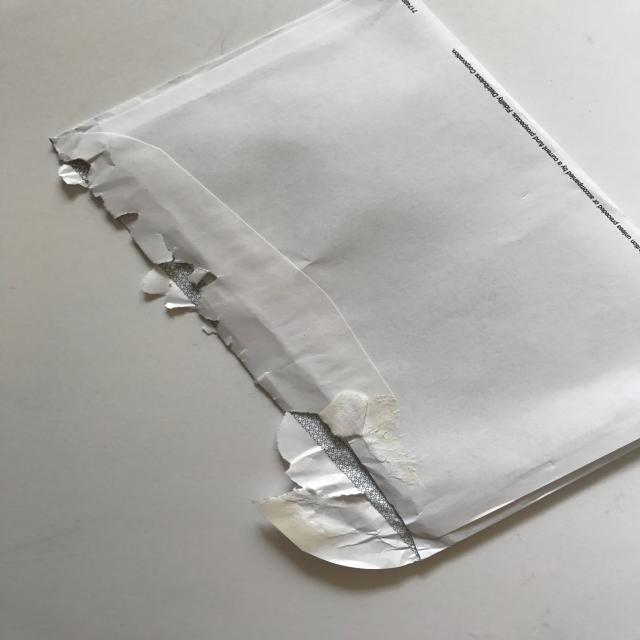Paper: (39, 0, 640, 586)
